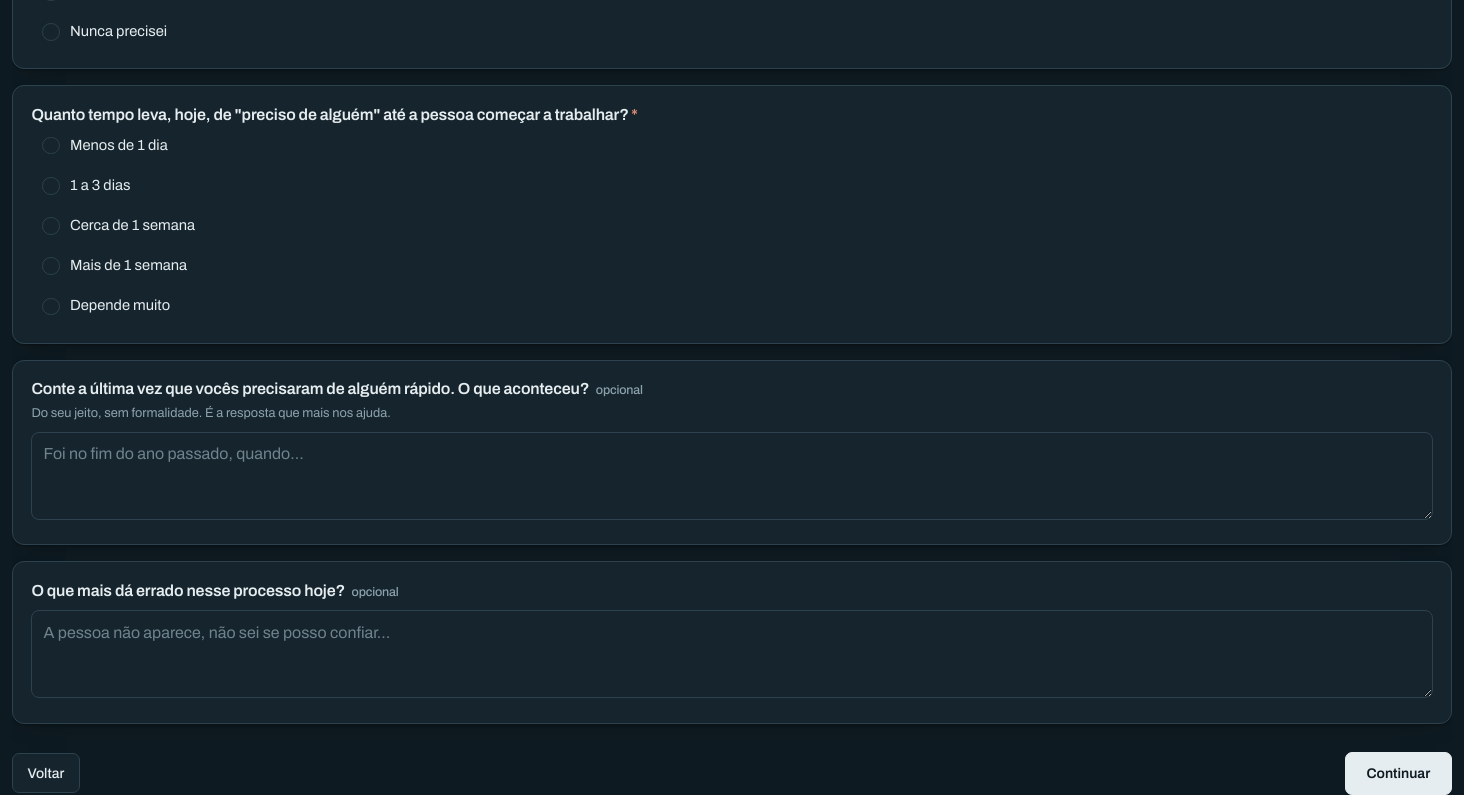
it: rascunho › retoma no passo em que a pessoa parou, com as respostas
The image size is (1464, 795).
(page scrolled)
Click the button "Voltar" at (46, 773), box [12, 754, 80, 793]
(page scrolled)
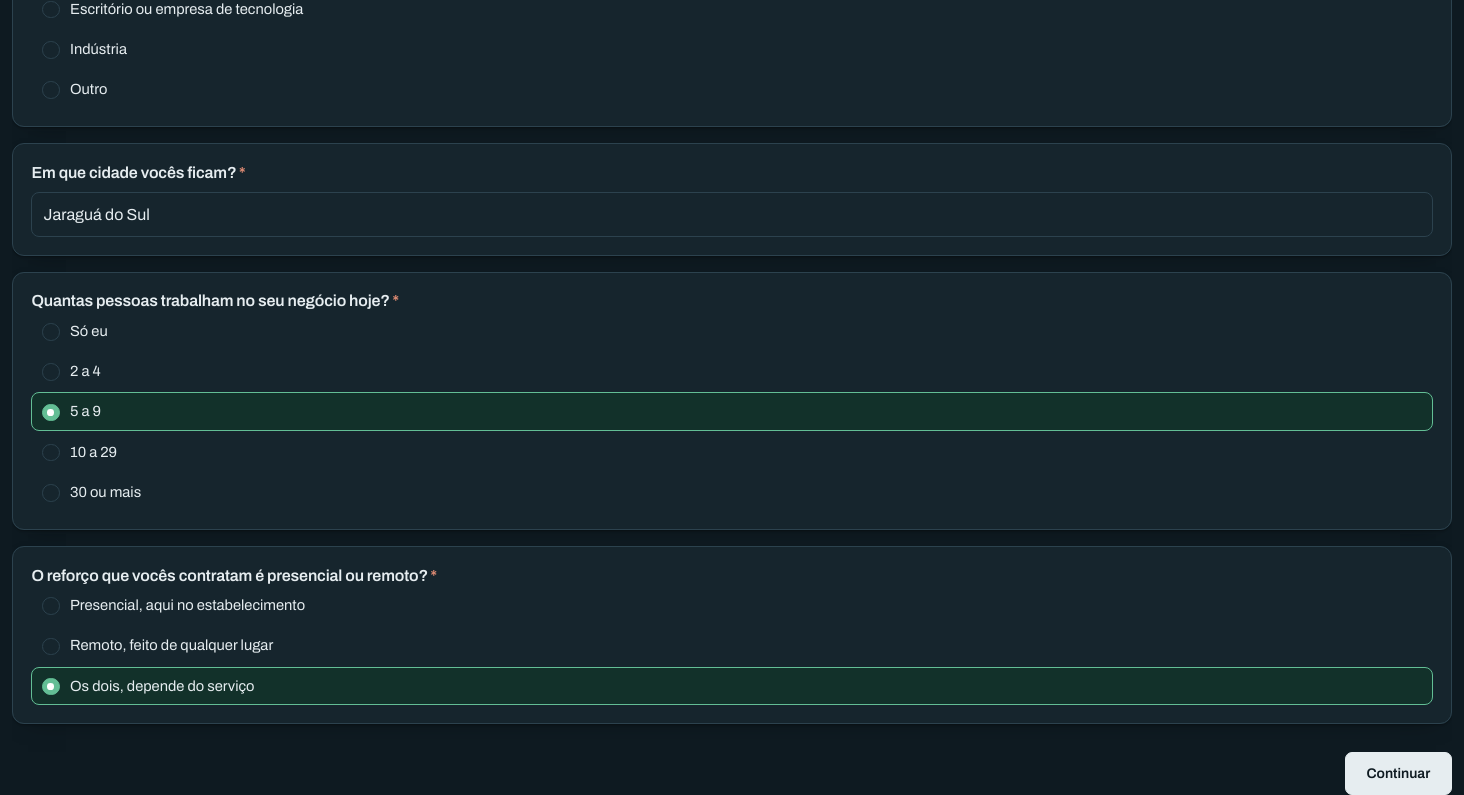
Expected: the field labelled "Em que cidade vocês ficam?*" holds "Jaraguá do Sul", [31, 192, 1433, 237]
